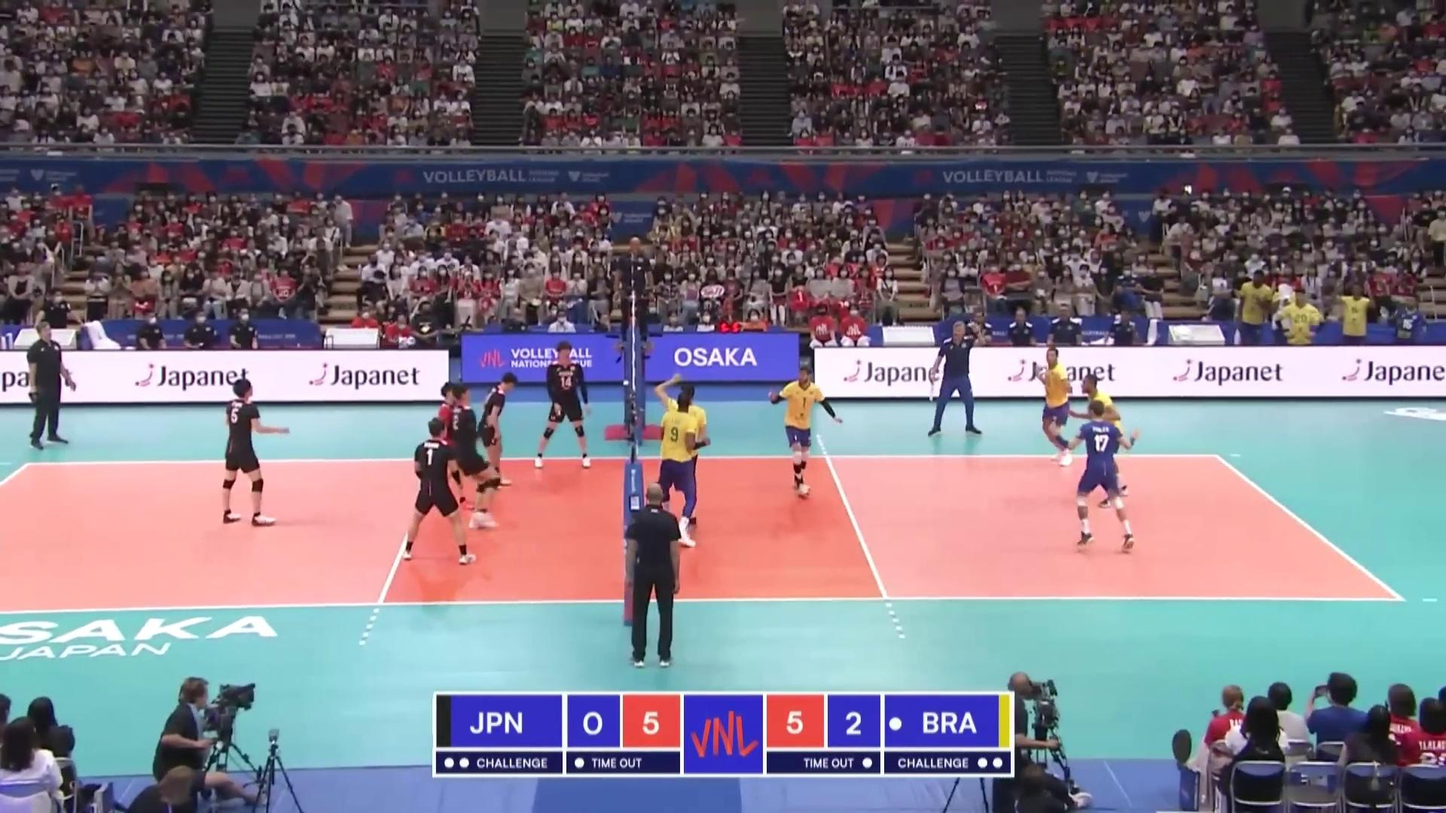player: (403, 418, 473, 562), (222, 380, 288, 523), (768, 368, 840, 498), (1074, 403, 1134, 555), (662, 380, 709, 550), (450, 385, 502, 534), (536, 343, 593, 468), (1079, 376, 1129, 508), (661, 393, 700, 544), (1034, 348, 1077, 466), (479, 372, 519, 490), (439, 381, 468, 517)
refree: (625, 487, 681, 672), (617, 238, 651, 356)
